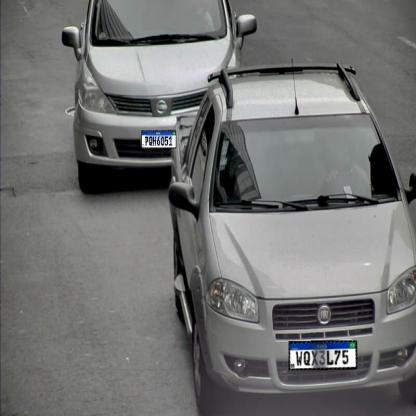PlacaM: (289, 340, 357, 370), (141, 130, 176, 148)
